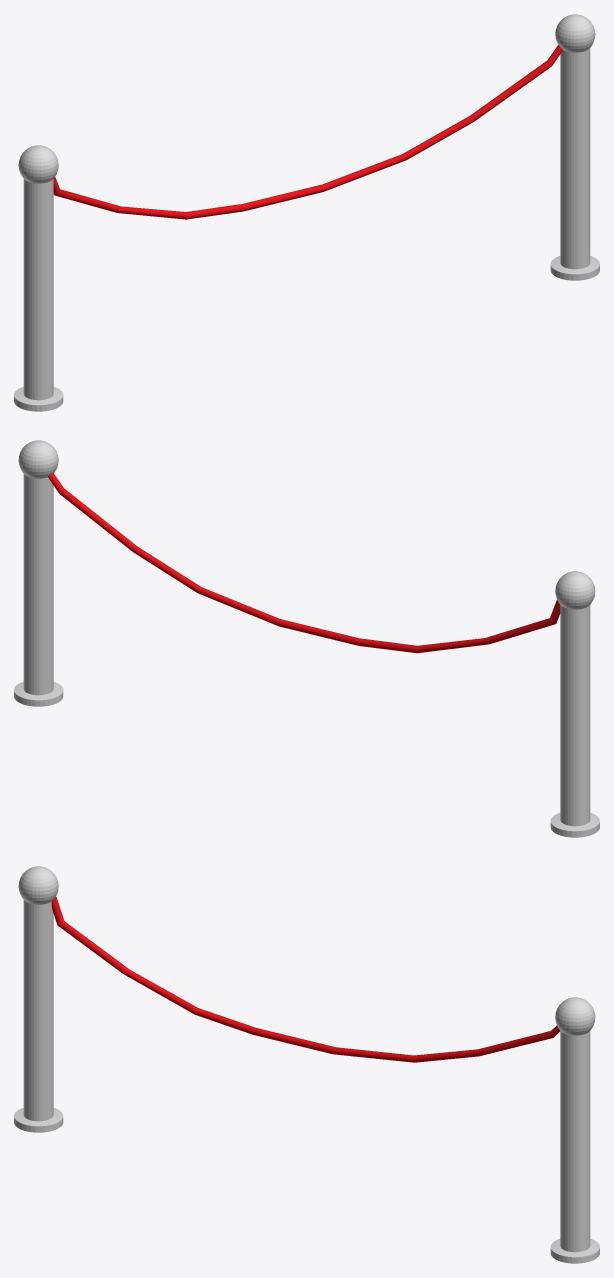
File: CinemaDetail.fbx
3 views of the same model, one above another, from view 1: azimuth 30°, elevation 25°; view 2: azimuth 150°, elevation 25°; view 3: azimuth 330°, elevation 25° (orthographic).
Parts seen in each view (by area): view 1: Cylinder, Cylinder.001, Circle, Sphere, Sphere.001; view 2: Cylinder, Cylinder.001, Circle, Sphere, Sphere.001; view 3: Cylinder.001, Cylinder, Circle, Sphere.001, Sphere.
Boxes of the visible parts, box(x1,y1,x2,y2) form: Cylinder: box(14, 179, 63, 411); Cylinder.001: box(550, 48, 599, 280); Circle: box(53, 45, 562, 219); Sphere: box(18, 145, 58, 183); Sphere.001: box(555, 14, 595, 52); Cylinder: box(550, 605, 599, 837); Cylinder.001: box(14, 474, 63, 706); Circle: box(48, 473, 560, 653); Sphere: box(555, 571, 595, 609); Sphere.001: box(18, 440, 58, 478); Cylinder.001: box(550, 1031, 599, 1263); Cylinder: box(14, 900, 63, 1132); Circle: box(51, 896, 560, 1062); Sphere.001: box(555, 997, 595, 1035); Sphere: box(18, 866, 58, 904).
Bounding box in the file's own units: 185 × 77.64 × 13.7.
